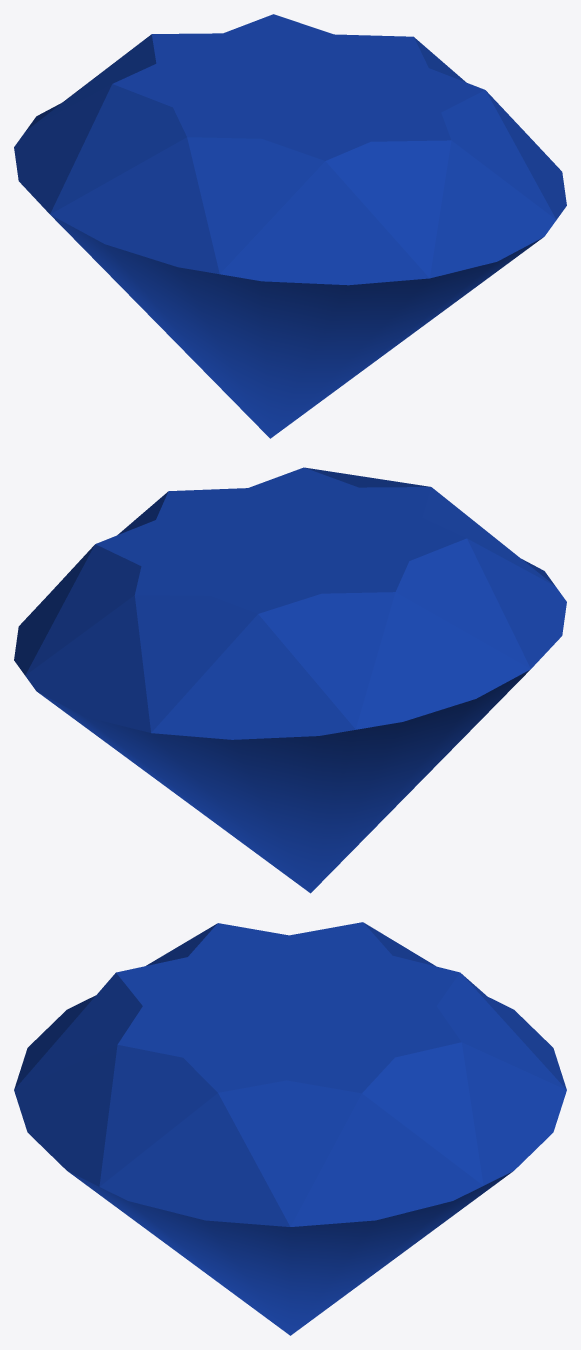
File: Diamond.fbx
The picture shows the model from 3 angles, top to bottom: view 1: azimuth 30°, elevation 25°; view 2: azimuth 150°, elevation 25°; view 3: azimuth 270°, elevation 25°; orthographic projection.
Parts seen in each view (by area): view 1: pCone1; view 2: pCone1; view 3: pCone1.
Part boxes in pixels (x1,y1,x2,y2): pCone1: (14,14,566,438); pCone1: (14,467,566,893); pCone1: (14,922,566,1335).
Bounding box in the file's own units: 225 × 160 × 226.
